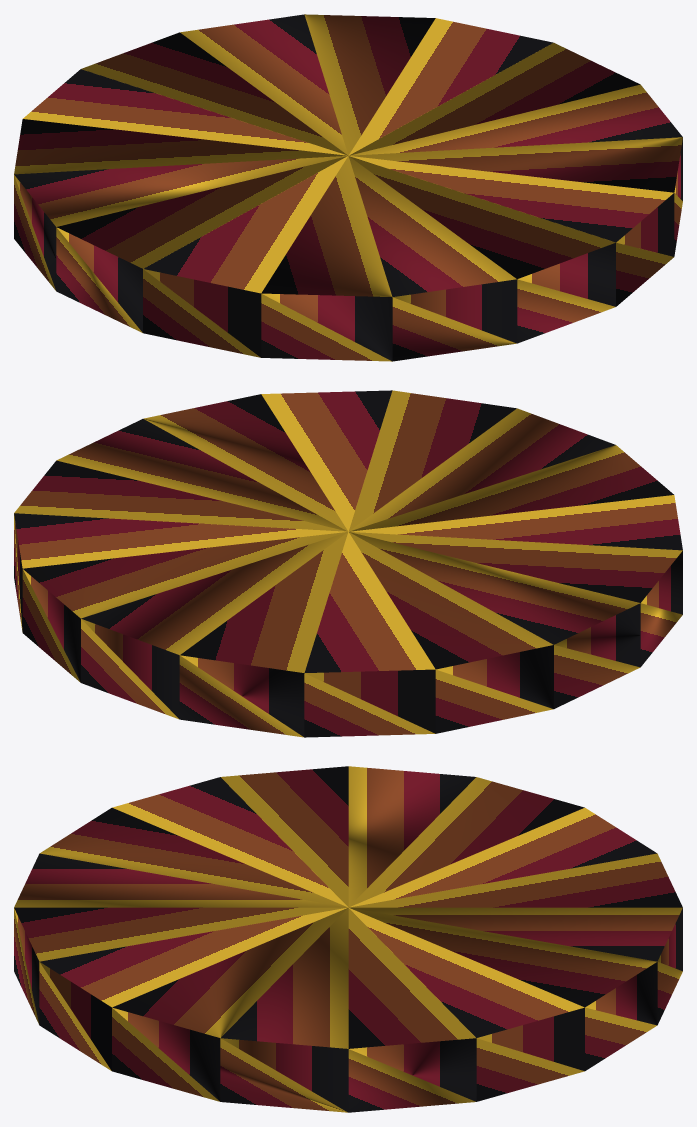
The model's file is coin.glb.
3 views of the same model, one above another, from view 1: azimuth 30°, elevation 25°; view 2: azimuth 150°, elevation 25°; view 3: azimuth 270°, elevation 25° (orthographic).
Visible parts, largest first — view 1: coin; view 2: coin; view 3: coin.
Boxes of the visible parts, x1,y1,x2,y2 form: coin: [14, 14, 682, 361]; coin: [14, 390, 682, 737]; coin: [14, 766, 682, 1112].
Size of the model in its own units: 0.76 by 0.08 by 0.76.
1 material, 1 textured.
